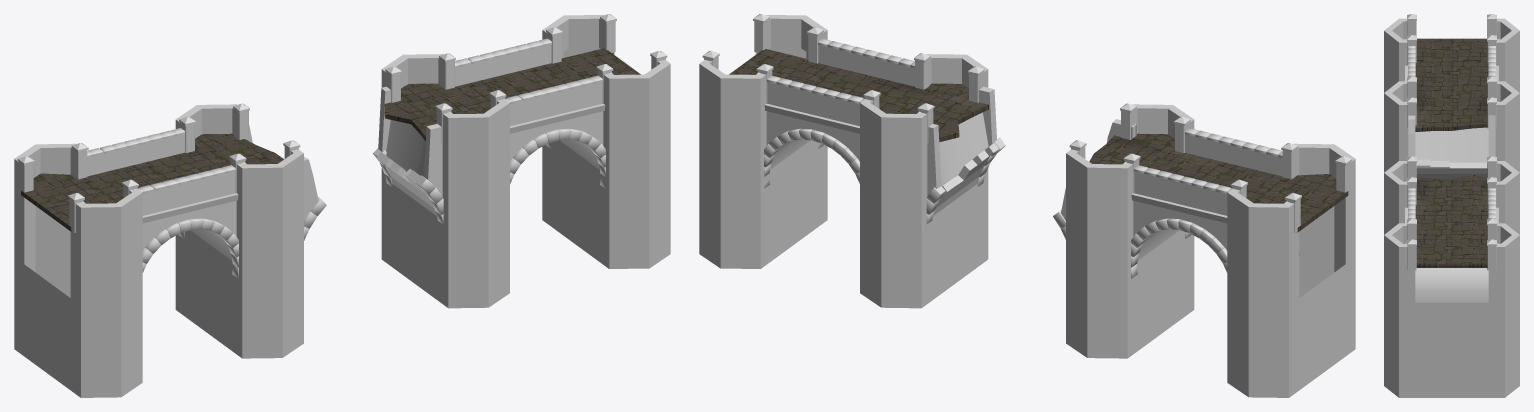
Rendered from Bridge.fbx.
The picture shows the model from 3 angles, left to right: view 1: azimuth 30°, elevation 25°; view 2: azimuth 150°, elevation 25°; view 3: azimuth 270°, elevation 25°; orthographic projection. The views are drawn at different scales.
Parts seen in each view (by area): view 1: Box004, Box003, Box001, Box002, Plane001, Object024, Object023, Object022, Object037, Object035; view 2: Box004, Box003, Box001, Box002, Plane001, Object024, Object023, Object022, Object037, Object035; view 3: Box003, Plane001, Box002, Box004, Box001, Object023, Object036, Object034, Object022, Object024.
Boxes of the visible parts, x1,y1,x2,y2 form: Box004: (14, 143, 142, 397); Box003: (542, 14, 670, 268); Box001: (381, 53, 509, 308); Box002: (175, 103, 303, 358); Plane001: (21, 48, 640, 231); Object024: (70, 128, 238, 278); Object023: (455, 38, 605, 188); Object022: (249, 86, 443, 240); Object037: (386, 120, 425, 176); Object035: (376, 152, 436, 215); Box004: (1227, 143, 1355, 397); Box003: (699, 14, 827, 268); Box001: (860, 53, 988, 308); Box002: (1066, 103, 1194, 358); Plane001: (729, 49, 1348, 232); Object024: (1131, 128, 1299, 278); Object023: (764, 38, 914, 188); Object022: (926, 86, 1136, 239); Object037: (939, 112, 988, 185); Object035: (933, 143, 998, 215); Box003: (1384, 218, 1519, 397); Plane001: (1415, 38, 1488, 267); Box002: (1384, 76, 1519, 172); Box004: (1384, 14, 1519, 92); Box001: (1384, 156, 1519, 234); Object023: (1405, 188, 1498, 302); Object036: (1415, 127, 1488, 162); Object034: (1416, 159, 1487, 179); Object022: (1406, 115, 1495, 160); Object024: (1405, 46, 1498, 81).
Bounding box in the file's own units: 23.1 × 5.78 × 7.38.
